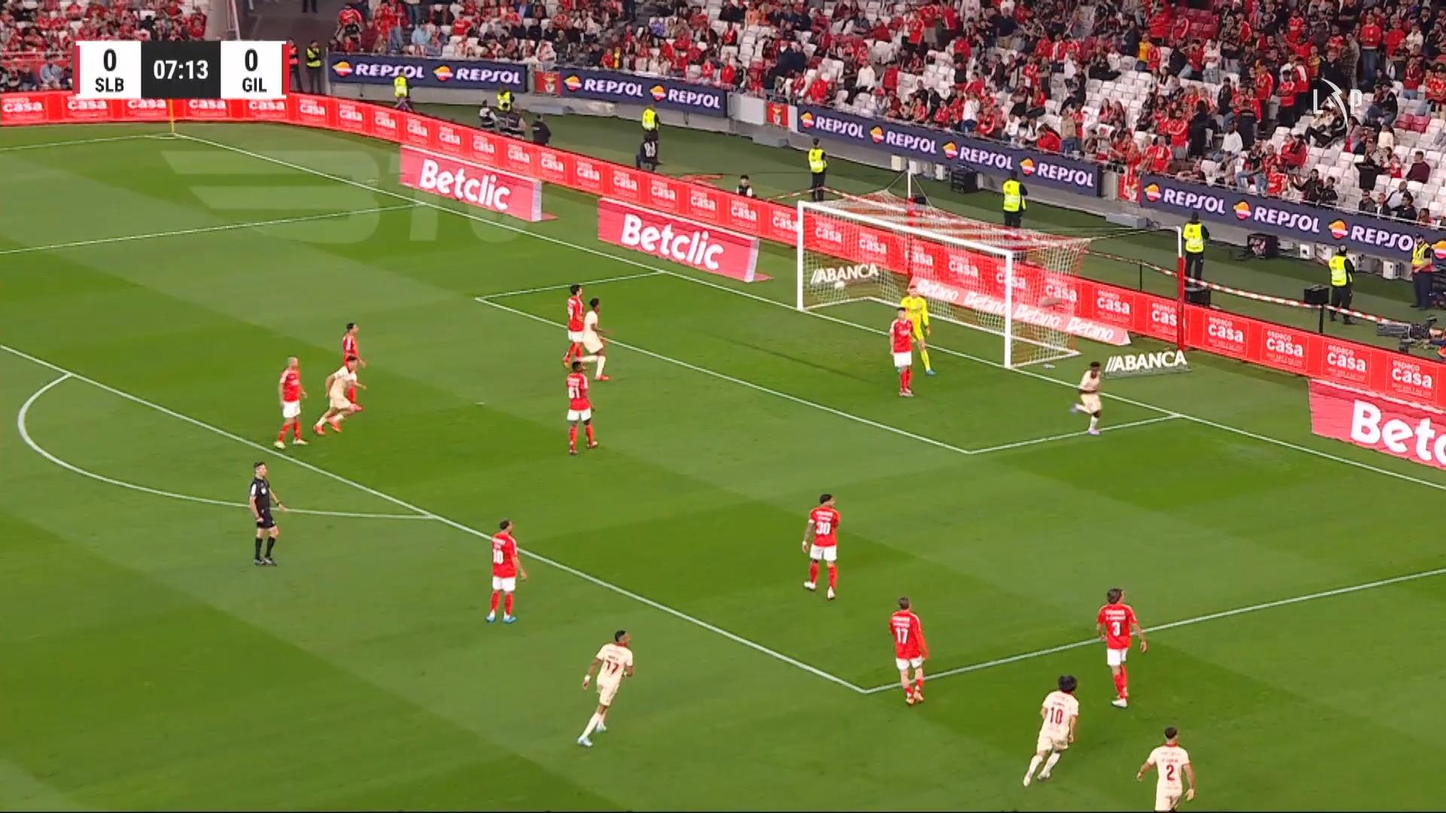ball: (834, 280, 847, 292)
goalkeeper: (899, 282, 935, 375)
player: (576, 629, 634, 747), (1021, 674, 1079, 786), (1095, 586, 1147, 708), (1136, 726, 1195, 811), (484, 518, 527, 623), (888, 595, 929, 705), (312, 355, 367, 435), (801, 492, 840, 600), (273, 355, 309, 449), (564, 360, 599, 455), (888, 305, 923, 397), (578, 297, 611, 381), (1070, 360, 1103, 434), (340, 321, 367, 408), (562, 283, 585, 367)
referee: (248, 461, 287, 566)
